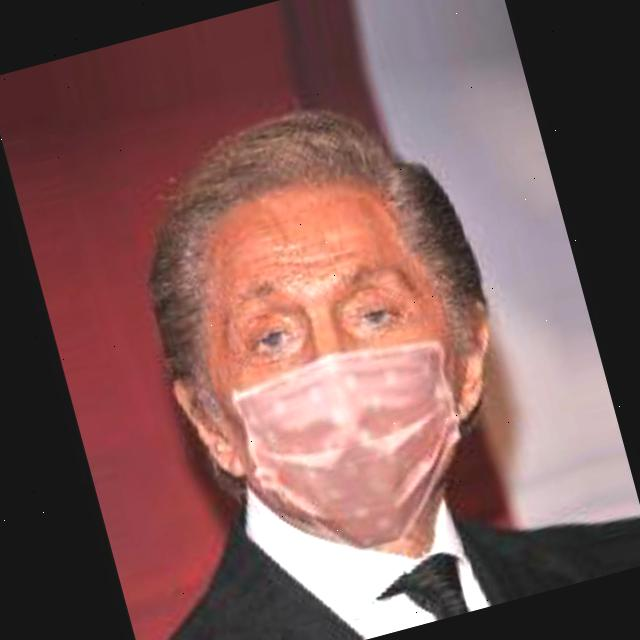suspicion: (13, 51, 594, 602)
